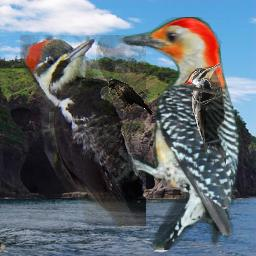Crow: (108, 79, 153, 115)
Woodpecker: (108, 17, 245, 250), (20, 35, 146, 226), (184, 63, 226, 169)
